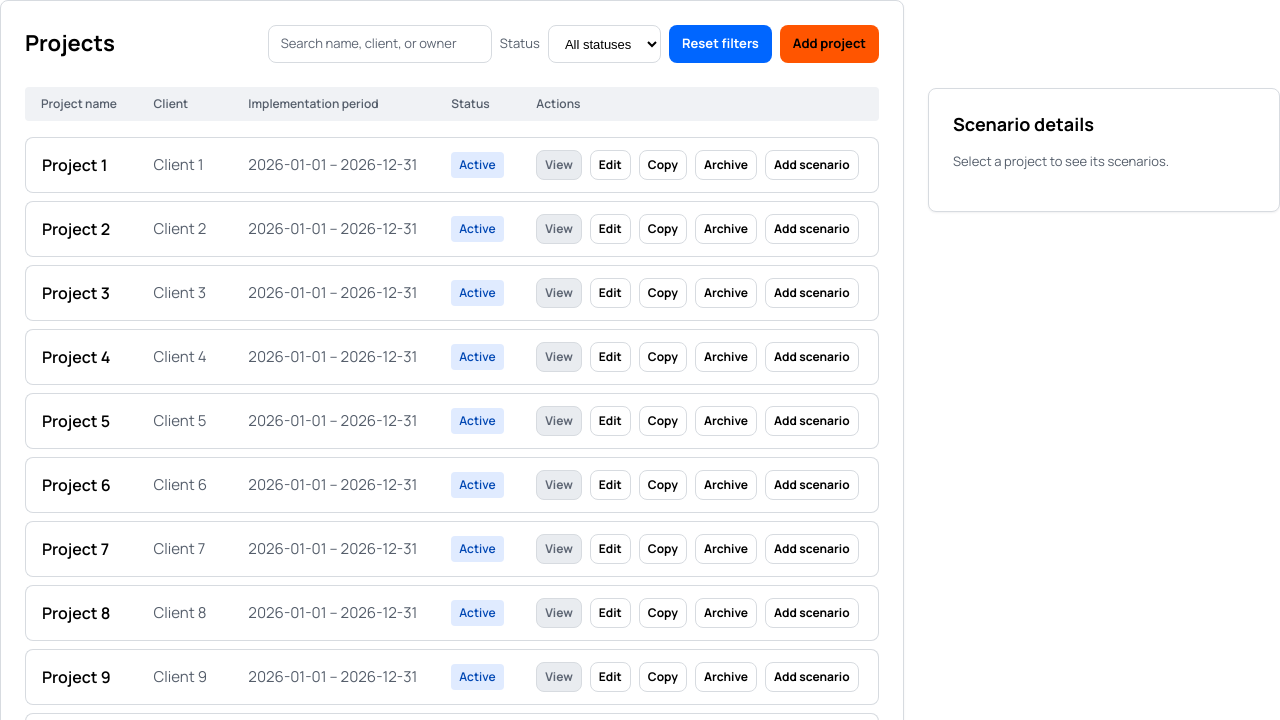
project search and pagination › keeps criteria available and retries the same query after a transient read failure
Type "Orchid" into the search field named "Search projects".
click(380, 44); type("Orchid")  # box x1=268 y1=25 x2=492 y2=63
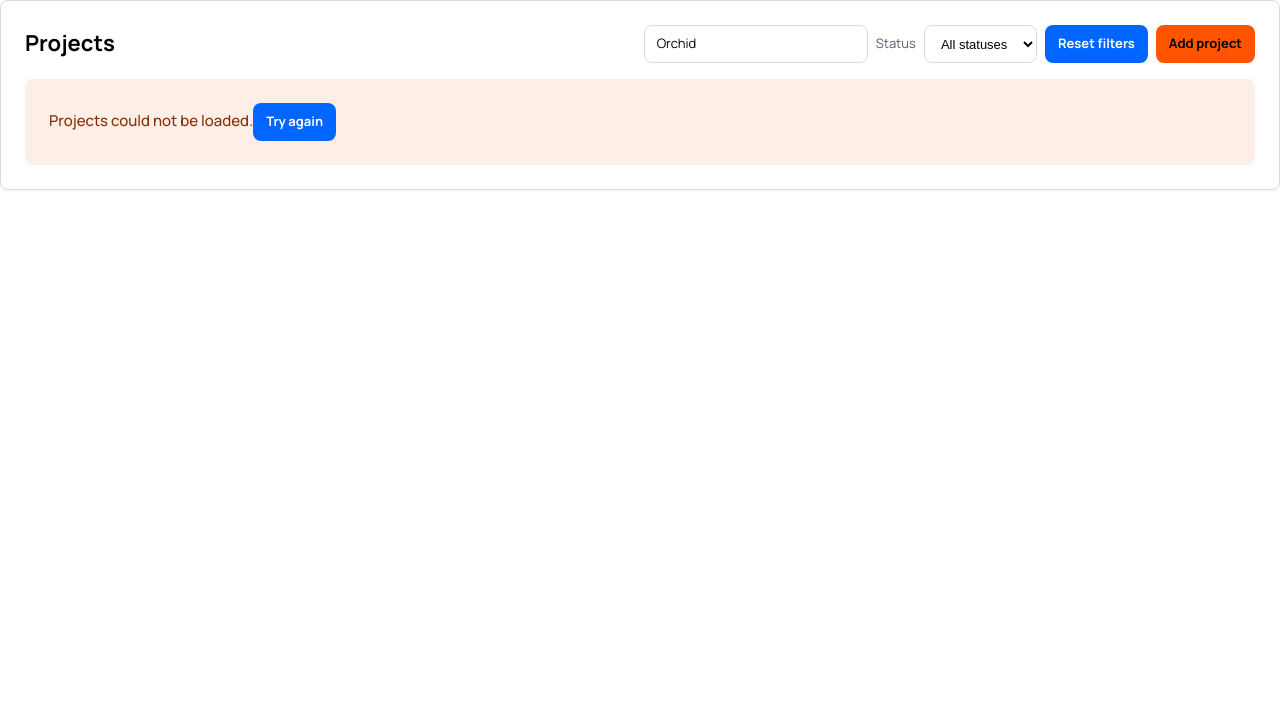
Expected: the text "Projects could not be loaded." is shown, x1=49 y1=110 x2=253 y2=131
Click the button "Try again".
click(295, 122)  # box x1=253 y1=103 x2=336 y2=141
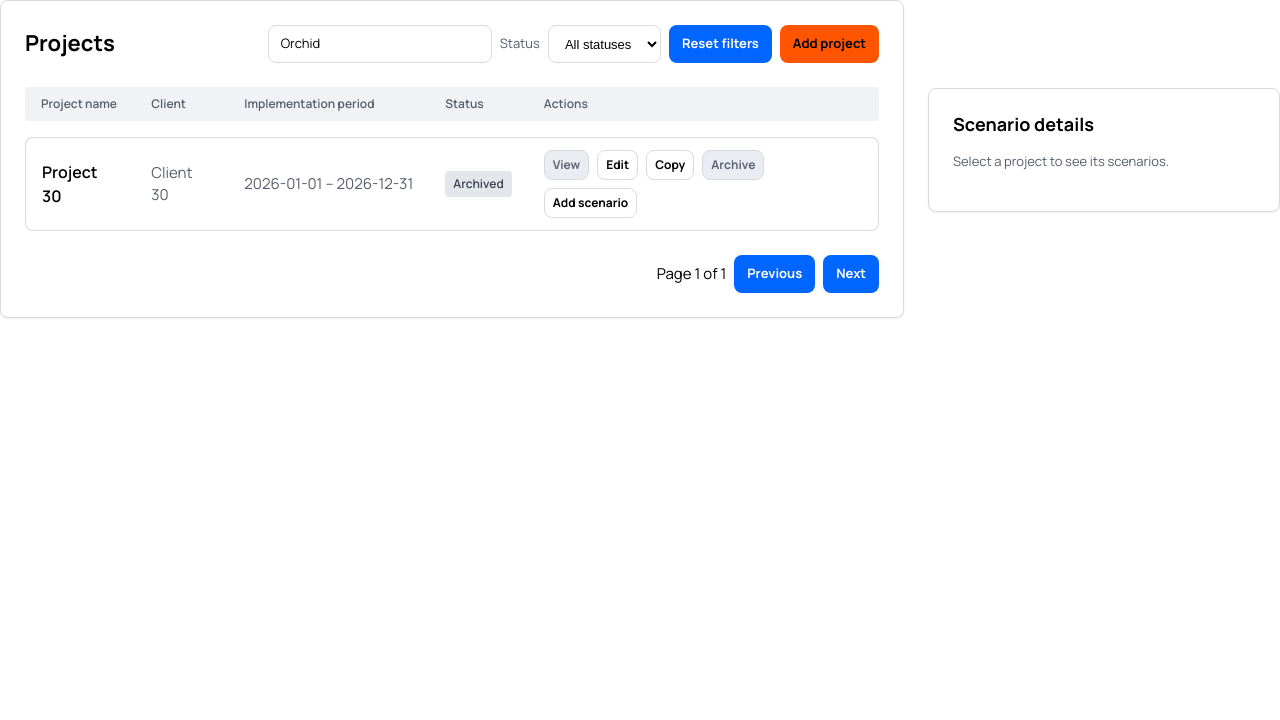
Expected: the row "Project 30" is shown, x1=25 y1=137 x2=879 y2=231
